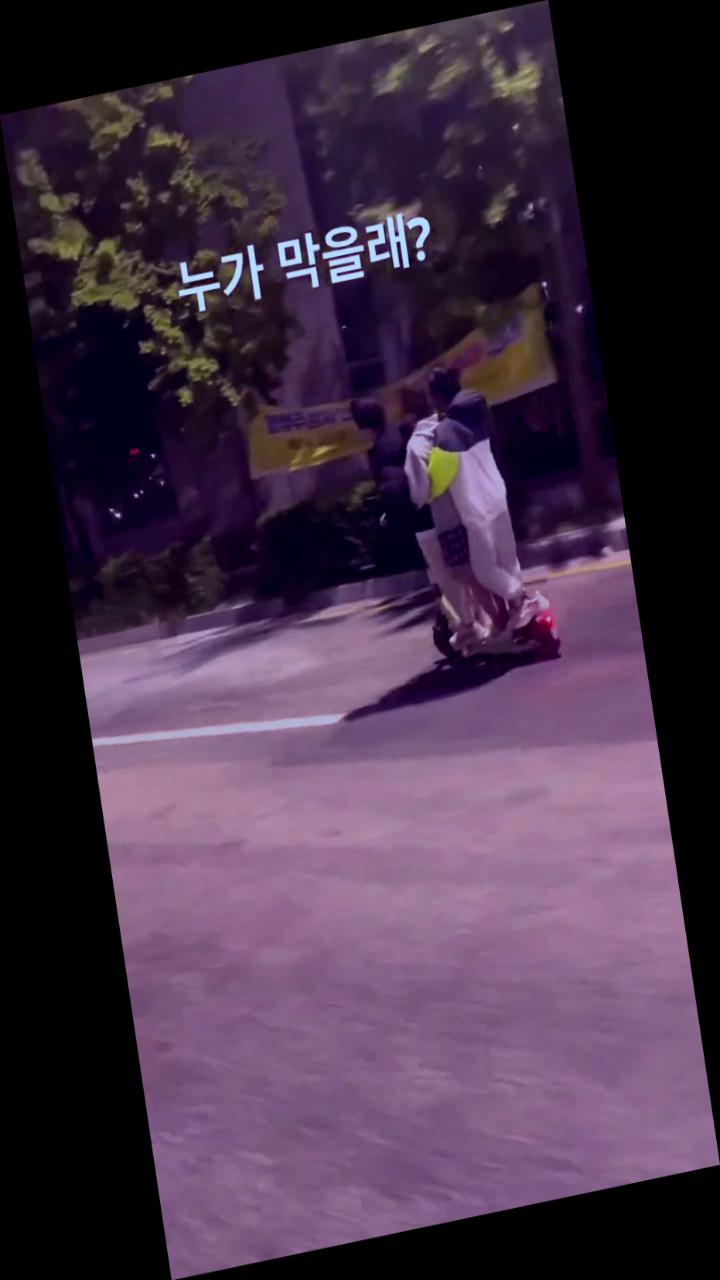multiple: (340, 347, 569, 693)
